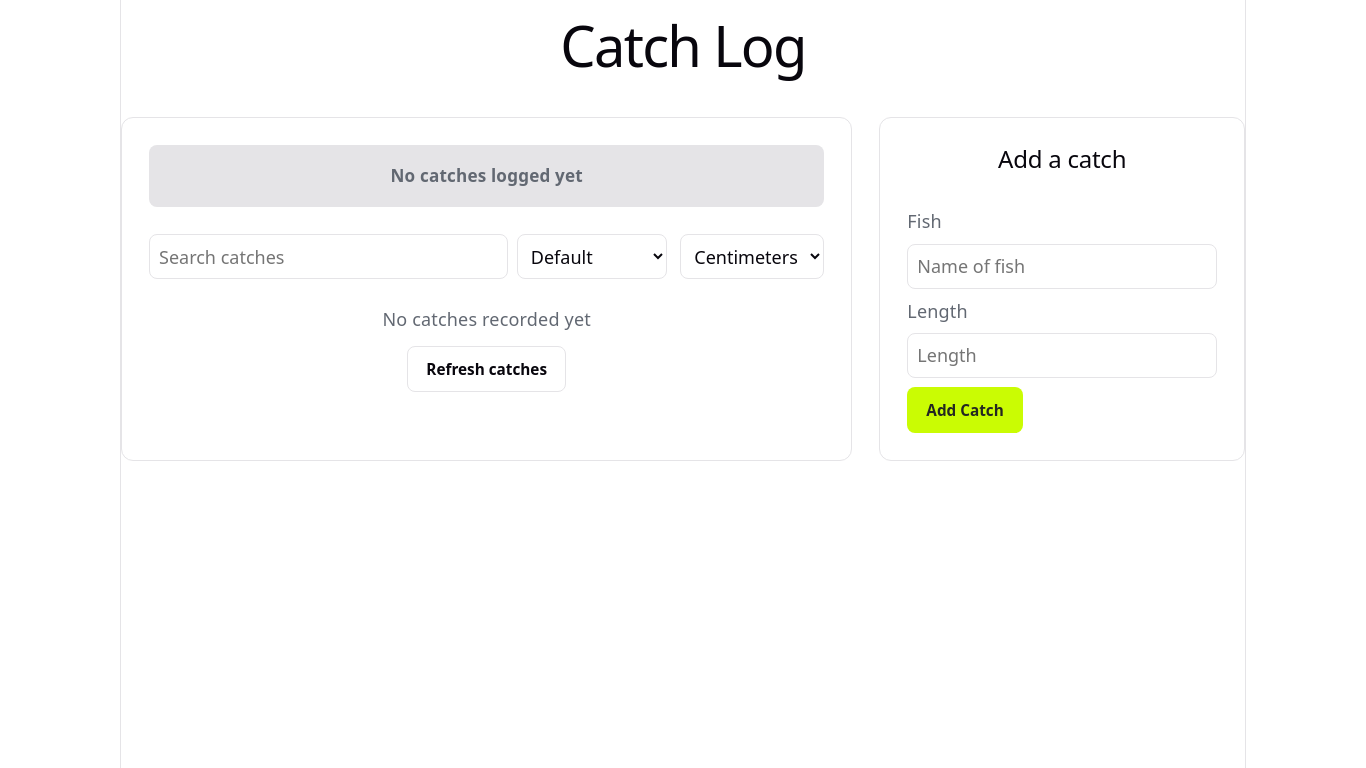
it: adds a catch through the catch log
Check: the text "No catches recorded yet" is shown, box [382,307,591,331]
In the field labelled "Fish": {"x": 1062, "y": 266} [907,244,1217,288], type "Sea Bass"
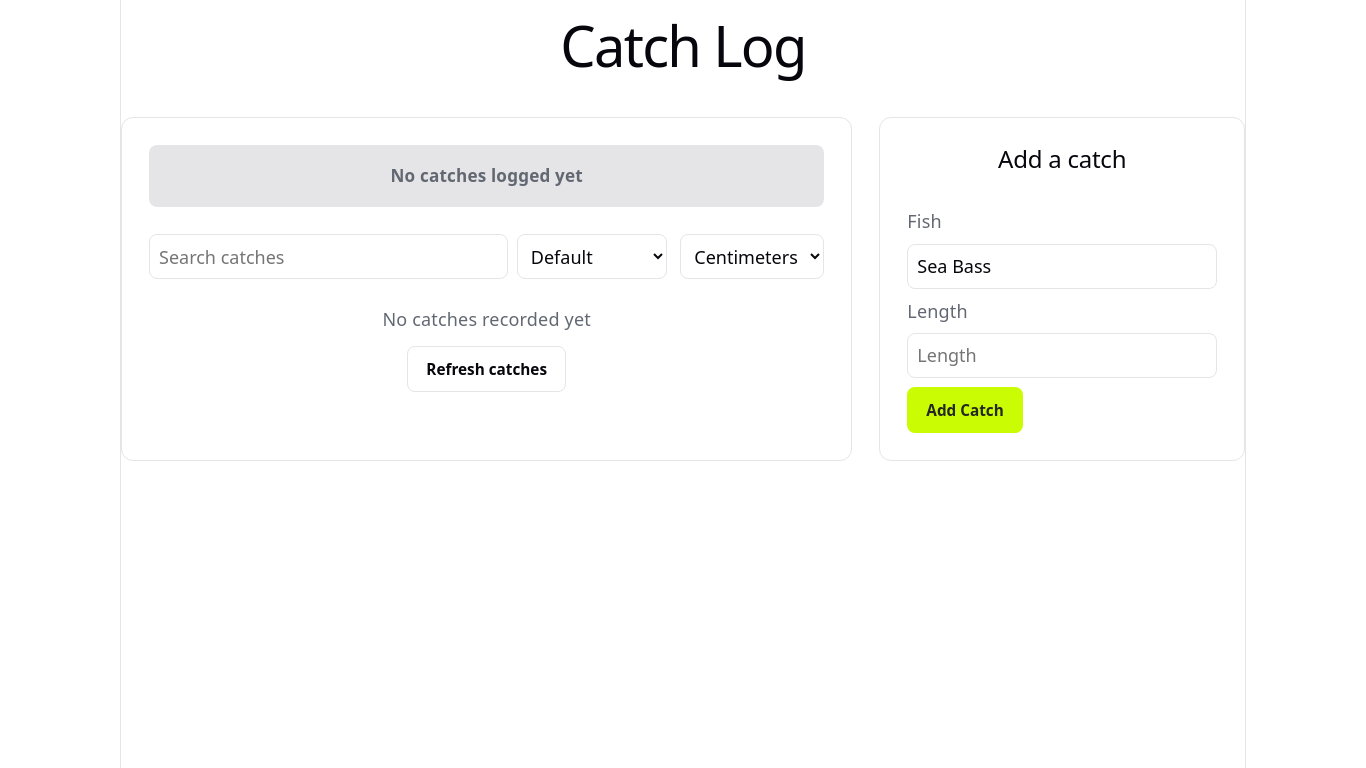
In the number field labelled "Length": {"x": 1062, "y": 355} [907,333,1217,378], type "42"
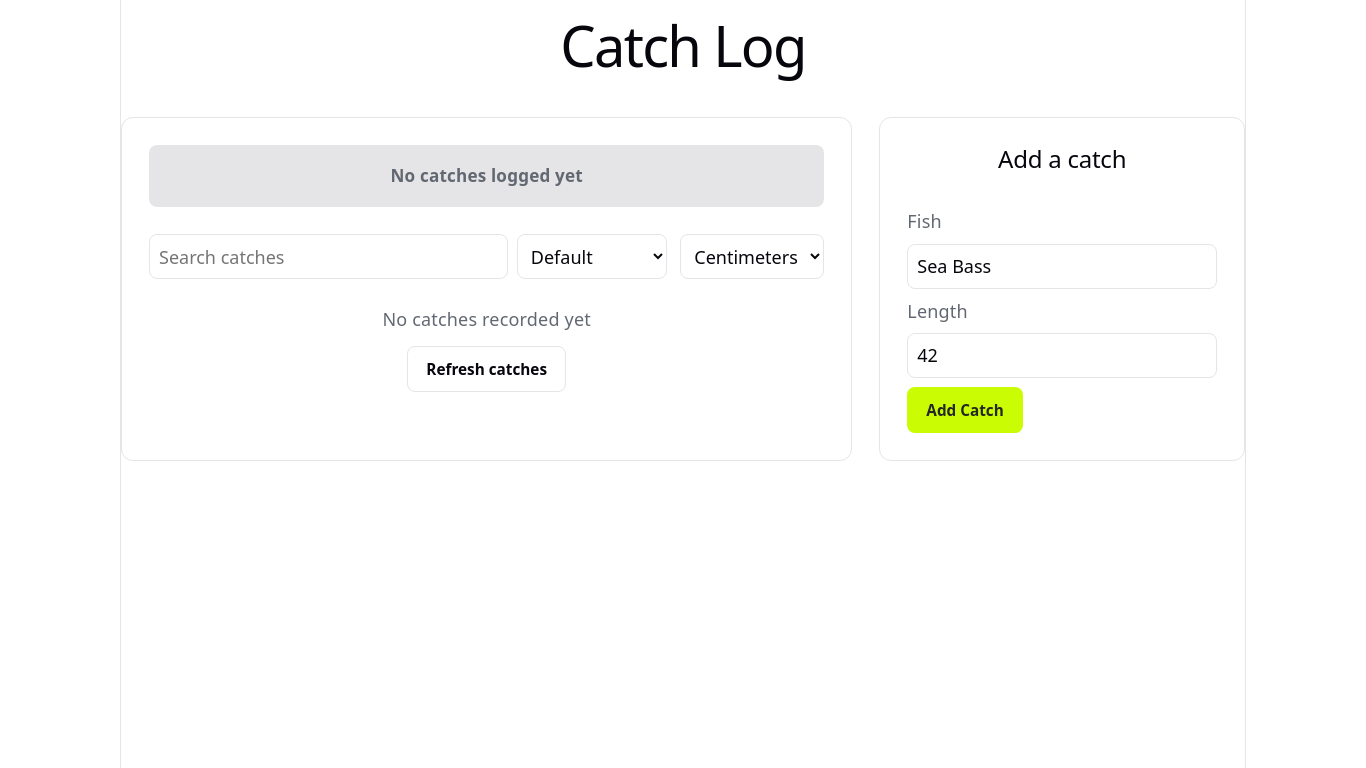
Click the button "Add Catch": {"x": 965, "y": 410} [907,387,1023,433]
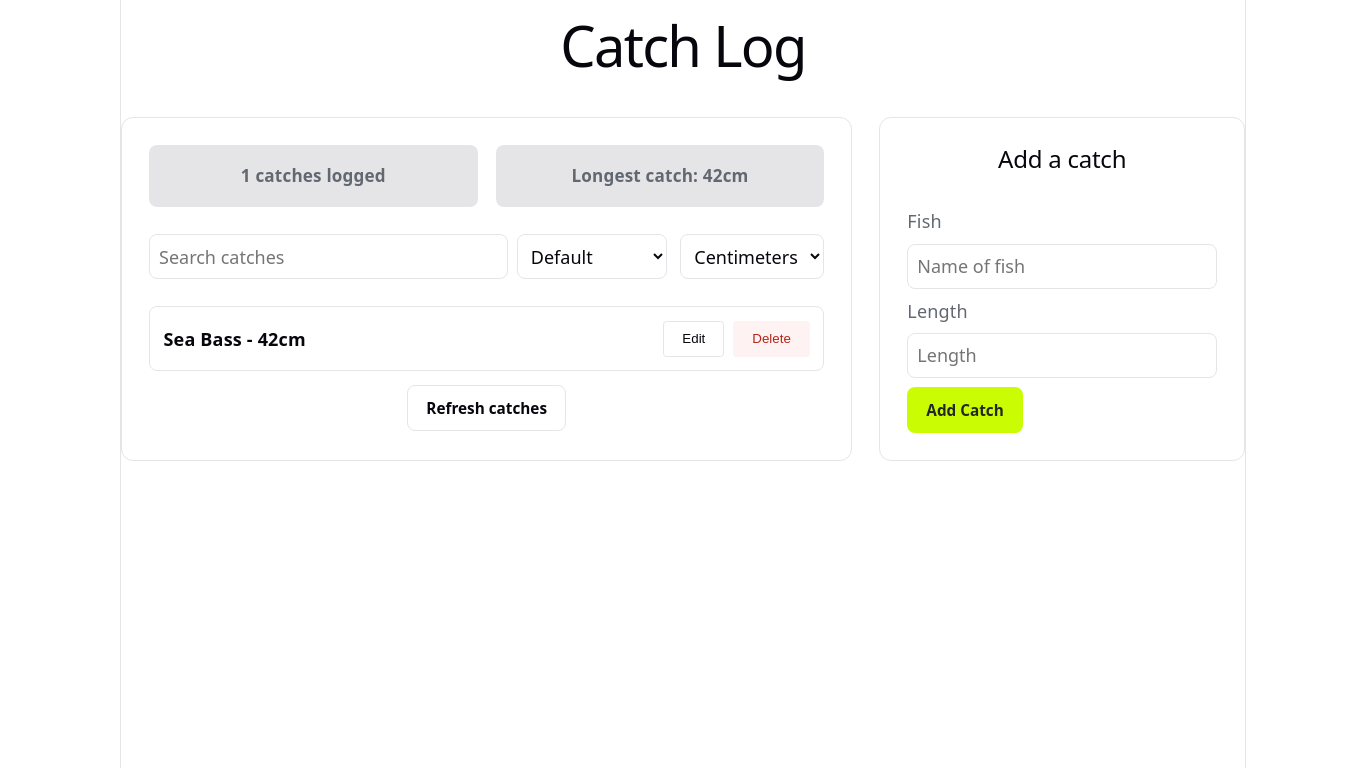
Check: the link "Sea Bass" is shown, box [164,327,242,351]
